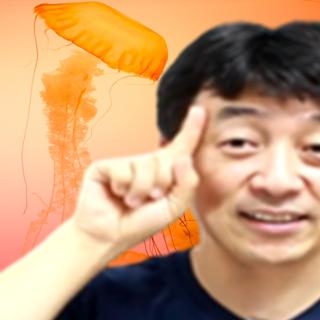IRRITATED: (70, 101, 211, 245)
